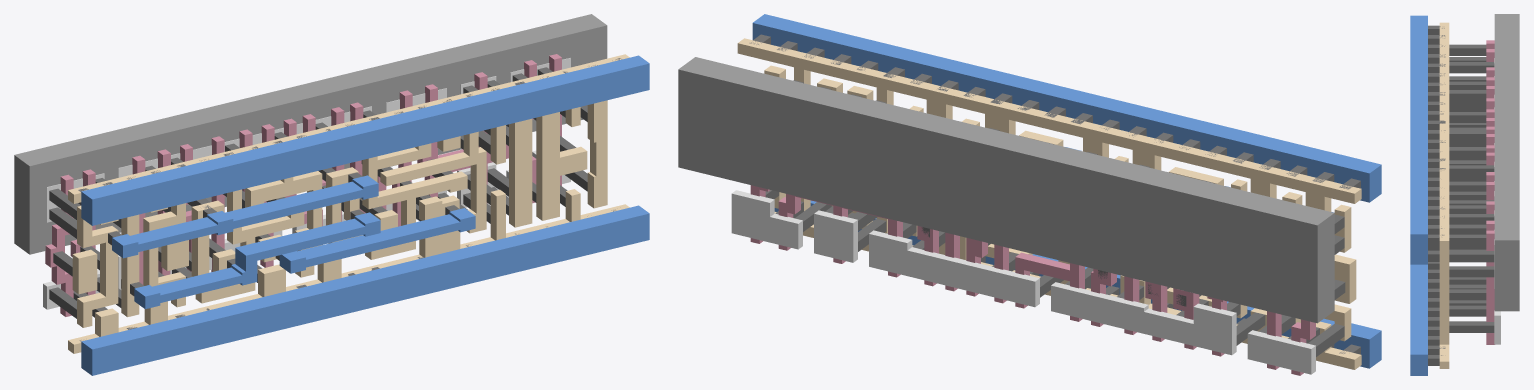
File: sky130_fd_sc_hd__dfsbp_1.gds.gltf
3 views of the same model, side by side, from view 1: azimuth 30°, elevation 25°; view 2: azimuth 150°, elevation 25°; view 3: azimuth 270°, elevation 25° (orthographic). The views are drawn at different scales.
Visible parts, largest first — view 1: sky130_fd_sc_hd__dfsbp_1_met1, sky130_fd_sc_hd__dfsbp_1_li1, sky130_fd_sc_hd__dfsbp_1_nwell, sky130_fd_sc_hd__dfsbp_1_poly, sky130_fd_sc_hd__dfsbp_1_licon, sky130_fd_sc_hd__dfsbp_1_diff, sky130_fd_sc_hd__dfsbp_1_mcon; view 2: sky130_fd_sc_hd__dfsbp_1_nwell, sky130_fd_sc_hd__dfsbp_1_li1, sky130_fd_sc_hd__dfsbp_1_diff, sky130_fd_sc_hd__dfsbp_1_met1, sky130_fd_sc_hd__dfsbp_1_poly, sky130_fd_sc_hd__dfsbp_1_licon, sky130_fd_sc_hd__dfsbp_1_mcon; view 3: sky130_fd_sc_hd__dfsbp_1_licon, sky130_fd_sc_hd__dfsbp_1_nwell, sky130_fd_sc_hd__dfsbp_1_met1, sky130_fd_sc_hd__dfsbp_1_mcon, sky130_fd_sc_hd__dfsbp_1_li1, sky130_fd_sc_hd__dfsbp_1_poly, sky130_fd_sc_hd__dfsbp_1_diff.
Boxes of the visible parts, x1=… form: sky130_fd_sc_hd__dfsbp_1_met1: x1=81, y1=55, x2=649, y2=375; sky130_fd_sc_hd__dfsbp_1_li1: x1=68, y1=54, x2=629, y2=353; sky130_fd_sc_hd__dfsbp_1_nwell: x1=14, y1=14, x2=607, y2=254; sky130_fd_sc_hd__dfsbp_1_poly: x1=45, y1=54, x2=561, y2=316; sky130_fd_sc_hd__dfsbp_1_licon: x1=49, y1=67, x2=587, y2=318; sky130_fd_sc_hd__dfsbp_1_diff: x1=43, y1=58, x2=570, y2=309; sky130_fd_sc_hd__dfsbp_1_mcon: x1=78, y1=58, x2=621, y2=341; sky130_fd_sc_hd__dfsbp_1_nwell: x1=678, y1=57, x2=1334, y2=323; sky130_fd_sc_hd__dfsbp_1_li1: x1=737, y1=38, x2=1361, y2=369; sky130_fd_sc_hd__dfsbp_1_diff: x1=731, y1=190, x2=1315, y2=374; sky130_fd_sc_hd__dfsbp_1_met1: x1=752, y1=14, x2=1381, y2=368; sky130_fd_sc_hd__dfsbp_1_poly: x1=750, y1=185, x2=1315, y2=375; sky130_fd_sc_hd__dfsbp_1_licon: x1=765, y1=80, x2=1345, y2=356; sky130_fd_sc_hd__dfsbp_1_mcon: x1=749, y1=34, x2=1360, y2=354; sky130_fd_sc_hd__dfsbp_1_licon: x1=1449, y1=44, x2=1494, y2=332; sky130_fd_sc_hd__dfsbp_1_nwell: x1=1494, y1=14, x2=1519, y2=311; sky130_fd_sc_hd__dfsbp_1_met1: x1=1410, y1=15, x2=1427, y2=375; sky130_fd_sc_hd__dfsbp_1_mcon: x1=1428, y1=25, x2=1445, y2=365; sky130_fd_sc_hd__dfsbp_1_li1: x1=1439, y1=22, x2=1449, y2=368; sky130_fd_sc_hd__dfsbp_1_poly: x1=1486, y1=40, x2=1494, y2=344; sky130_fd_sc_hd__dfsbp_1_diff: x1=1494, y1=58, x2=1500, y2=344.
Size of the model in its own units: 10.96 by 3.2 by 2.24.
